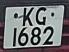1: (12, 27, 20, 49)
2: (42, 25, 56, 47)
6: (18, 26, 30, 49)
8: (30, 26, 43, 47)
G: (35, 6, 50, 28)
K: (22, 7, 34, 29)
